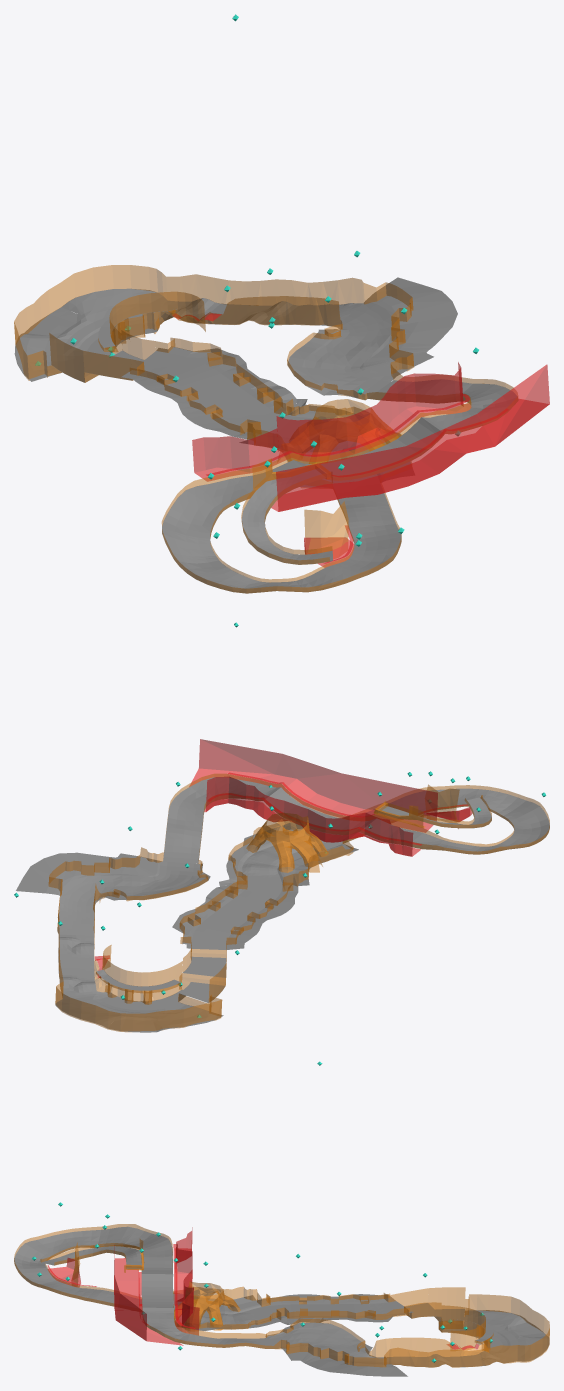
The model's file is Jungle Boogie (Complete).obj.
The picture shows the model from 3 angles, top to bottom: view 1: azimuth 30°, elevation 25°; view 2: azimuth 150°, elevation 25°; view 3: azimuth 270°, elevation 25°; orthographic projection. The views are drawn at different scales.
Parts seen in each view (by area): view 1: COL_wall, COL_reset, COL_woodtrack, COL_slowgrasstrack, COL_stonetrack, COL_fastdirttrack, COL_watertrack, COL_metaltrack, COL_groundreset; view 2: COL_wall, COL_reset, COL_woodtrack, COL_slowgrasstrack, COL_stonetrack, COL_fastdirttrack, COL_watertrack, COL_groundreset, COL_metaltrack; view 3: COL_wall, COL_woodtrack, COL_slowgrasstrack, COL_stonetrack, COL_reset, COL_fastdirttrack, COL_watertrack, COL_metaltrack, COL_groundreset.
Part boxes in pixels (x1,y1,x2,y2): COL_wall: (14,265,517,593); COL_reset: (192,362,549,567); COL_woodtrack: (162,379,517,593); COL_slowgrasstrack: (14,277,457,487); COL_stonetrack: (44,303,380,488); COL_fastdirttrack: (156,298,389,396); COL_watertrack: (24,307,159,359); COL_metaltrack: (162,460,401,592); COL_groundreset: (172,312,508,563); COL_wall: (48,773,549,1032); COL_reset: (189,739,472,856); COL_woodtrack: (163,777,549,863); COL_slowgrasstrack: (16,822,358,1031); COL_stonetrack: (69,830,342,1021); COL_fastdirttrack: (57,862,193,998); COL_watertrack: (96,990,190,1032); COL_groundreset: (94,772,467,977); COL_metaltrack: (326,788,549,854); COL_wall: (14,1224,549,1367); COL_woodtrack: (14,1226,279,1348); COL_slowgrasstrack: (173,1292,549,1376); COL_stonetrack: (173,1299,530,1359); COL_reset: (48,1227,199,1345); COL_fastdirttrack: (269,1332,516,1367); COL_watertrack: (439,1322,546,1352); COL_metaltrack: (15,1228,173,1306); COL_groundreset: (47,1244,478,1349).
Bounding box in the file's own units: 277 × 240 × 416.
